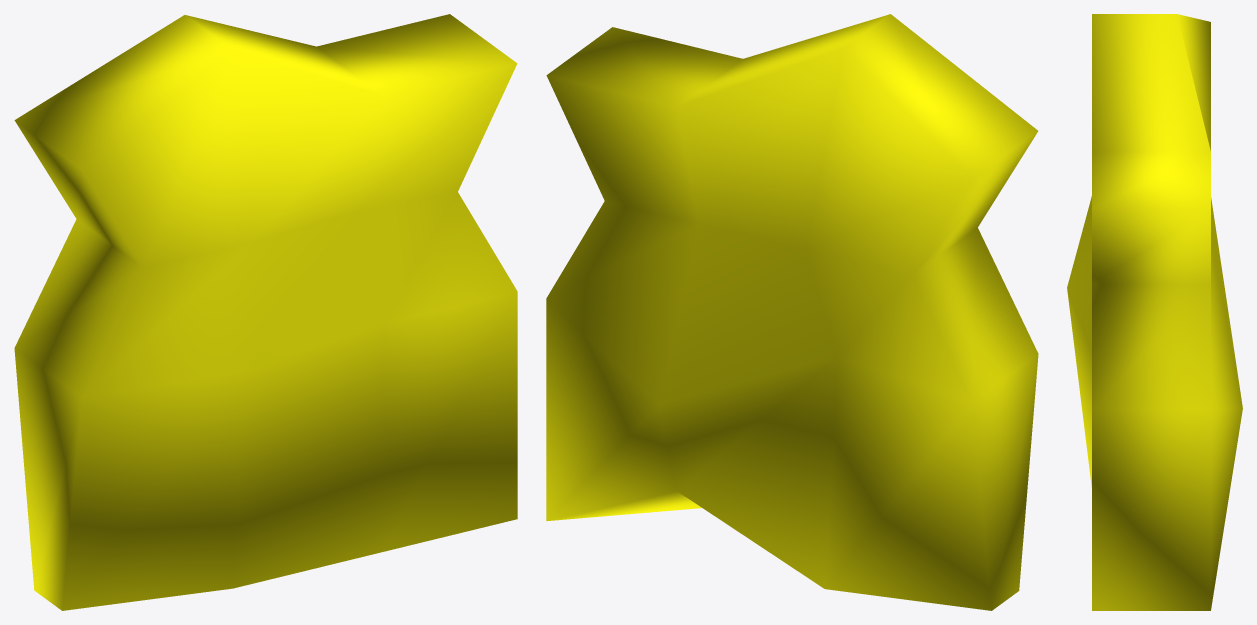
Rendered from item-bark-chip-gold.glb.
3 renders of one model, left to right at view 1: azimuth 30°, elevation 25°; view 2: azimuth 150°, elevation 25°; view 3: azimuth 270°, elevation 25°, orthographic. The views are drawn at different scales.
Bounding box in the file's own units: 2 × 2.36 × 0.7938.
